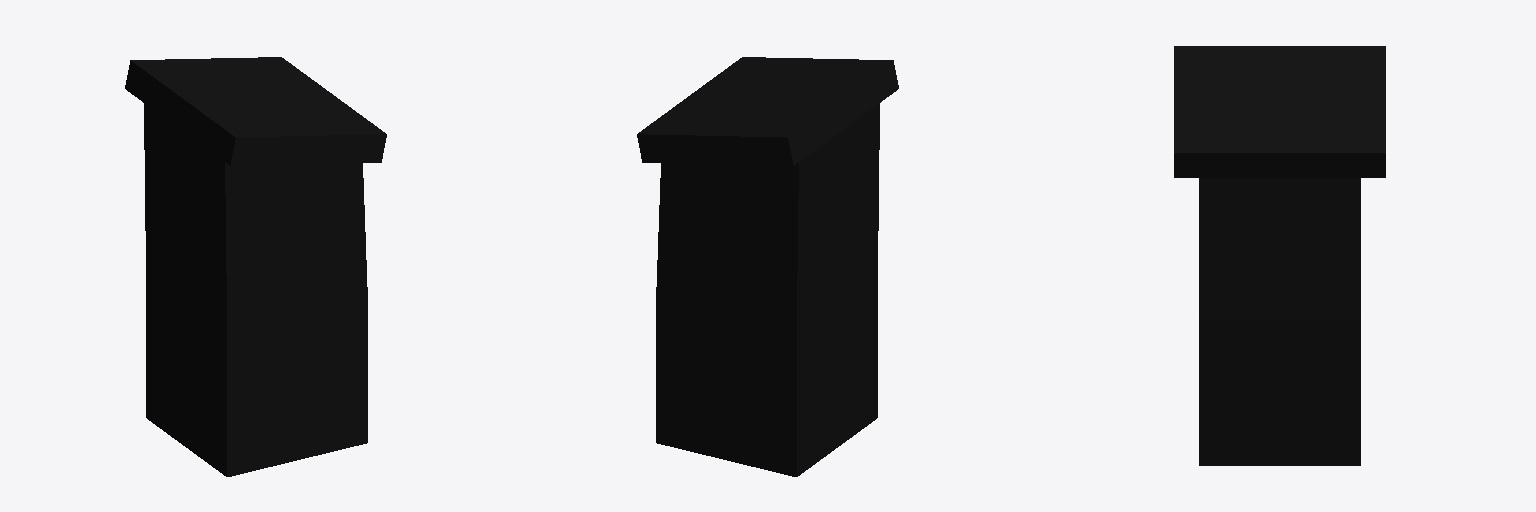
File: counter.obj
3 views of the same model, side by side, from view 1: azimuth 30°, elevation 25°; view 2: azimuth 150°, elevation 25°; view 3: azimuth 270°, elevation 25° (orthographic).
Parts seen in each view (by area): view 1: Cube; view 2: Cube; view 3: Cube.
Boxes of the visible parts, <box> form: Cube: <box>125,57,386,476</box>; Cube: <box>637,57,898,476</box>; Cube: <box>1174,46,1385,465</box>.
Bounding box in the file's own units: 2.23 × 4.75 × 2.6.